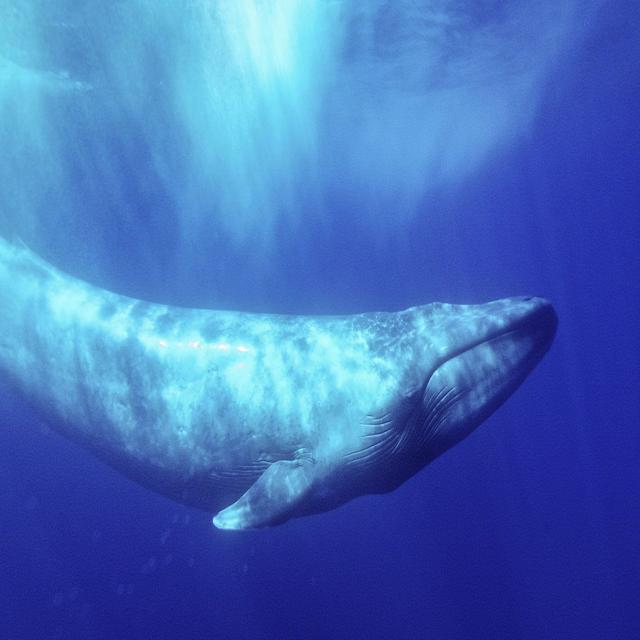whale: (0, 238, 557, 530)
